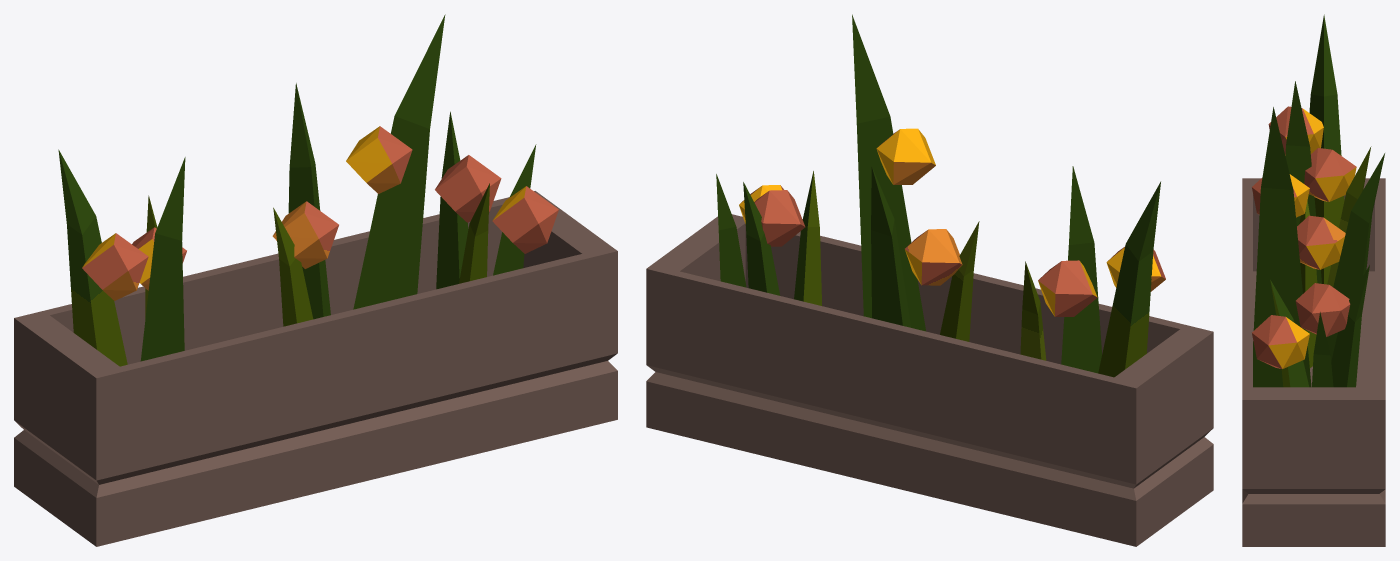
The model's file is Accesories_Plants_B.glb.
3 views of the same model, side by side, from view 1: azimuth 30°, elevation 25°; view 2: azimuth 150°, elevation 25°; view 3: azimuth 270°, elevation 25° (orthographic). The views are drawn at different scales.
Visible parts, largest first — view 1: Accesories_Plants_B; view 2: Accesories_Plants_B; view 3: Accesories_Plants_B.
Part boxes in pixels (box(x1,y1,x2,y2)): Accesories_Plants_B: box(14, 14, 617, 546); Accesories_Plants_B: box(646, 14, 1213, 546); Accesories_Plants_B: box(1242, 14, 1385, 546).
Bounding box in the file's own units: 1.32 × 1.04 × 0.3621.
Materials: 1 (1 with a texture image).
